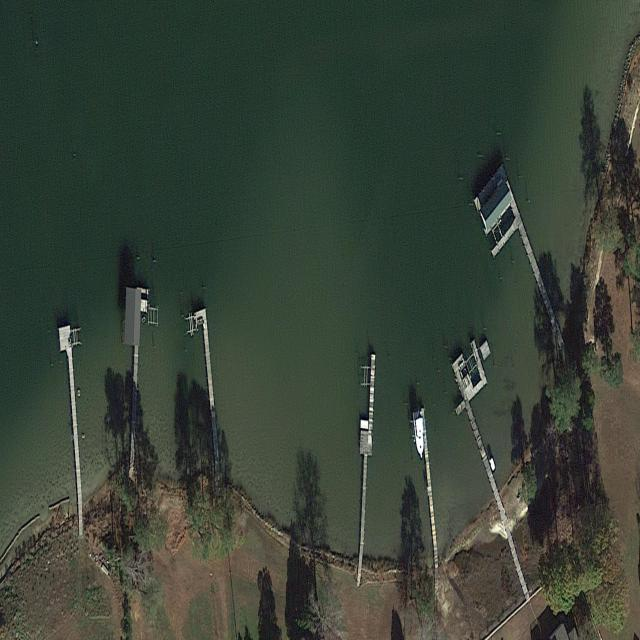ship: (412, 408, 426, 462)
